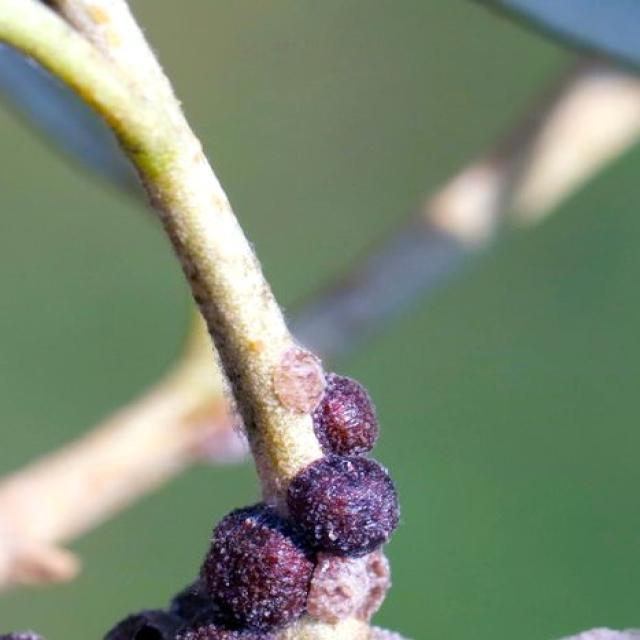BlackScale: (105, 502, 312, 638), (291, 454, 398, 620), (274, 344, 377, 454)
